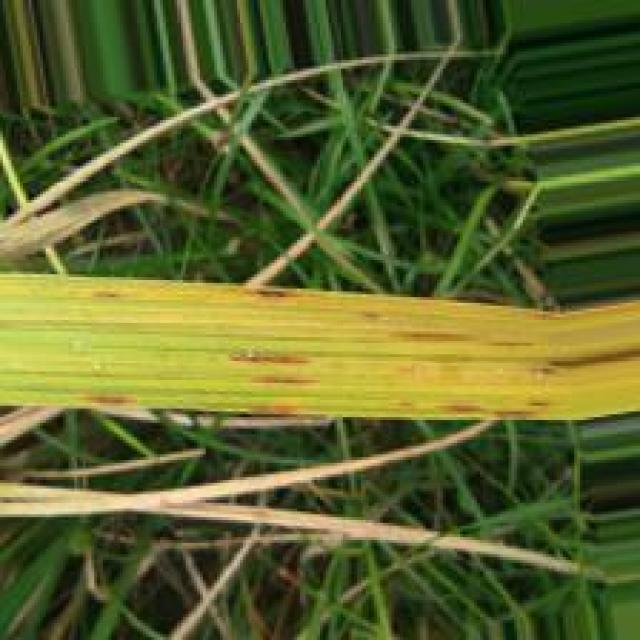Narrow_Brown_Leaf_Spot: (56, 271, 640, 423)
